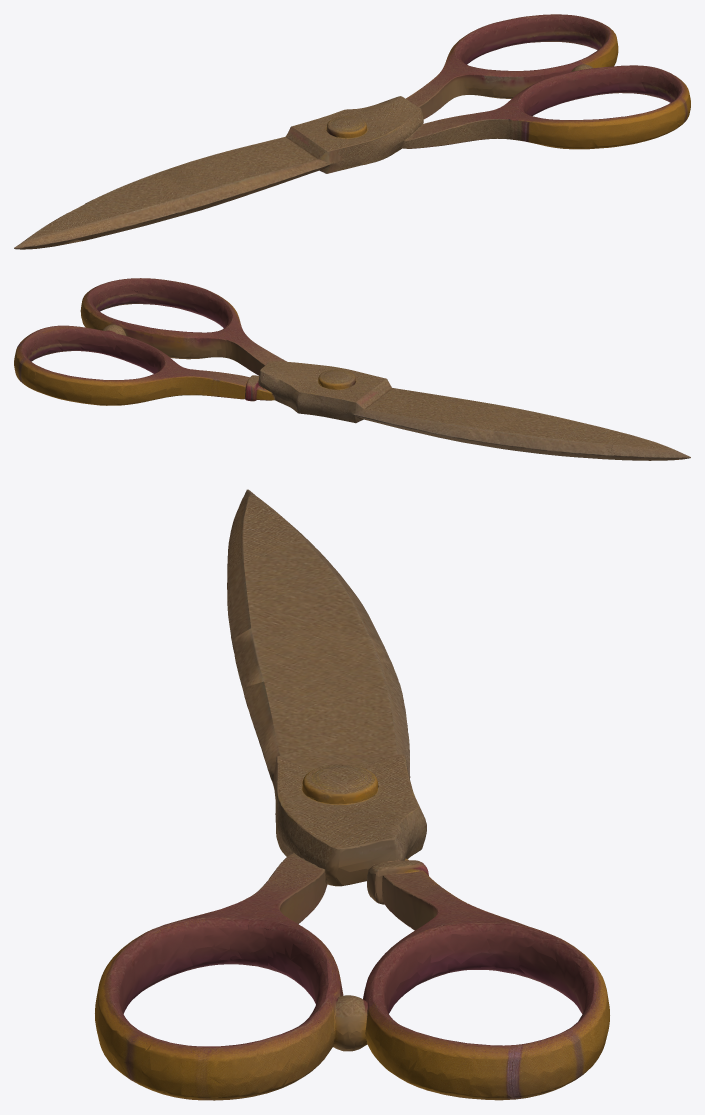
The model's file is TOOL_SCISSORS_001.glb.
3 views of the same model, one above another, from view 1: azimuth 30°, elevation 25°; view 2: azimuth 150°, elevation 25°; view 3: azimuth 270°, elevation 25° (orthographic). The views are drawn at different scales.
Size of the model in its own units: 1.9 by 0.0877 by 0.695.
Materials: 1 (1 with a texture image).
